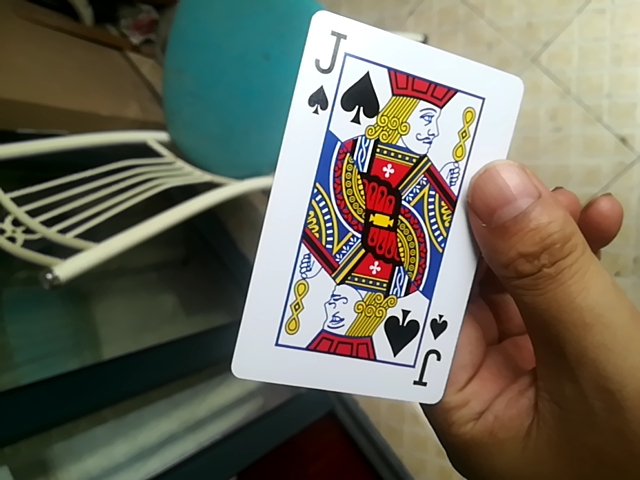ht j: (234, 25, 525, 408)
